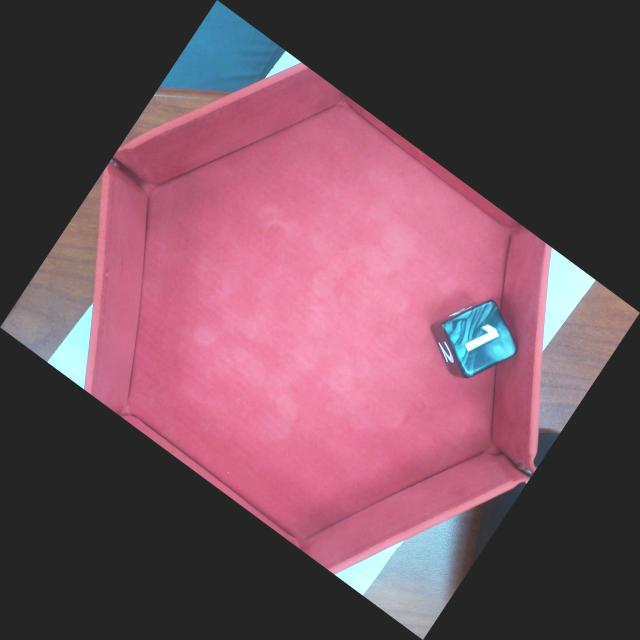dice: (438, 297, 520, 380)
